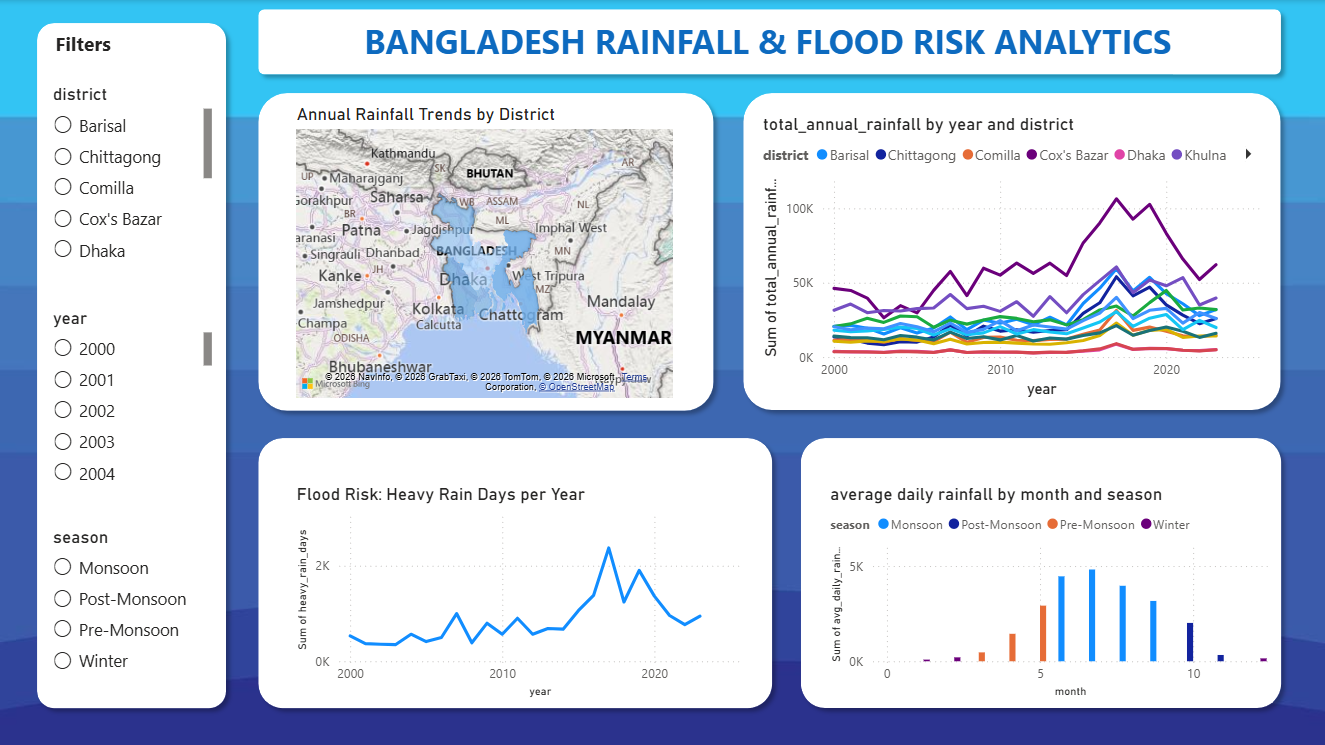

This screenshot's page, from the dashboard's own definition file:
{"tool":"powerbi","page":{"name":"Page 1","canvas":[1280,720],"ordinal":0},"visuals":[{"type":"shape","box":[241.3,80.8,457.2,324.5],"z":0},{"type":"shape","box":[709.4,81,536.5,323.8],"z":1000},{"type":"shape","box":[241.3,0,1005,80.8],"z":1500},{"type":"filledMap","title":"Annual Rainfall Trends by District","fields":{"Category":["annual_summary.district"]},"box":[282.7,100.2,373.2,289.5],"z":2000},{"type":"lineChart","title":"total_annual_rainfall by year and district","fields":{"Category":["annual_summary.year"],"Y":["Sum(annual_summary.total_annual_rainfall_mm)"],"Series":["annual_summary.district"]},"box":[732.8,109.8,492.6,278.6],"z":3000},{"type":"shape","box":[764.3,414.4,481.6,278.6],"z":4000},{"type":"shape","box":[241.3,413.8,513.9,278.7],"z":5000},{"type":"clusteredColumnChart","title":"average daily rainfall by month and season","fields":{"Category":["monthly_summary.month"],"Y":["Sum(monthly_summary.avg_daily_rainfall_mm)"],"Series":["monthly_summary.season"]},"box":[797.3,466.6,432.2,211.3],"z":6000},{"type":"shape","title":"Filters","box":[27.4,13.7,200.3,679.2],"z":7000},{"type":"lineChart","title":"Flood Risk: Heavy Rain Days per Year","fields":{"Category":["annual_summary.year"],"Y":["Sum(annual_summary.heavy_rain_days)"]},"box":[282.7,466.6,441.9,211.3],"z":8000},{"type":"textbox","box":[347.2,13.7,913.9,67.2],"z":9000},{"type":"listSlicer","fields":{"Values":["annual_summary.district"]},"box":[46.7,81,163.3,185.2],"z":10000},{"type":"listSlicer","fields":{"Values":["annual_summary.year"]},"box":[46.7,296.4,163.3,182.5],"z":11000},{"type":"listSlicer","fields":{"Values":["monthly_summary.season"]},"box":[46.7,507.7,163.3,170.2],"z":12000},{"type":"textbox","box":[49.4,24.7,160.5,38.4],"z":14000}]}

Visuals, with their boxes in screenshot pixels (x1, y1, x2, y2), scaled from the page's 1280x720 canvas onto the 1325x745 screenshot:
shape: Rect(250, 84, 723, 419)
shape: Rect(734, 84, 1290, 419)
shape: Rect(250, 0, 1290, 84)
"Annual Rainfall Trends by District" filledMap: Rect(293, 104, 679, 403)
"total_annual_rainfall by year and district" lineChart: Rect(759, 114, 1268, 402)
shape: Rect(791, 429, 1290, 717)
shape: Rect(250, 428, 782, 717)
"average daily rainfall by month and season" clusteredColumnChart: Rect(825, 483, 1273, 701)
"Filters" shape: Rect(28, 14, 236, 717)
"Flood Risk: Heavy Rain Days per Year" lineChart: Rect(293, 483, 750, 701)
textbox: Rect(359, 14, 1305, 84)
listSlicer - annual_summary.district: Rect(48, 84, 217, 275)
listSlicer - annual_summary.year: Rect(48, 307, 217, 496)
listSlicer - monthly_summary.season: Rect(48, 525, 217, 701)
textbox: Rect(51, 26, 217, 65)
